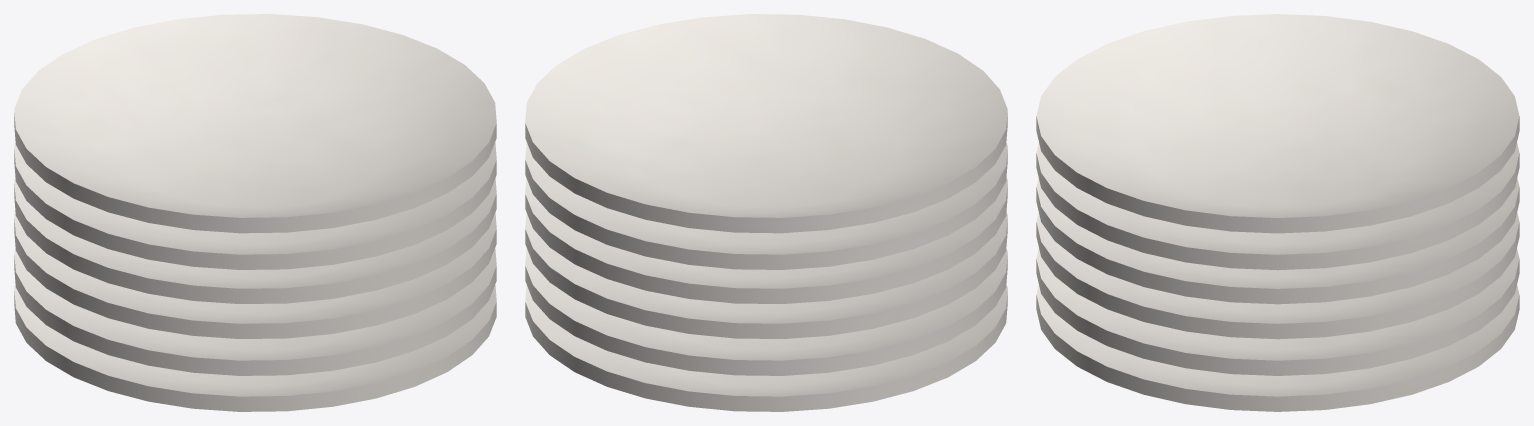
Rendered from Tumpukanpiring.fbx.
3 renders of one model, left to right at view 1: azimuth 30°, elevation 25°; view 2: azimuth 150°, elevation 25°; view 3: azimuth 270°, elevation 25°, orthographic.
Visible parts, largest first — view 1: Tumpukan piringg; view 2: Tumpukan piringg; view 3: Tumpukan piringg.
Boxes of the visible parts, x1,y1,x2,y2 form: Tumpukan piringg: (14,14,496,411); Tumpukan piringg: (525,14,1007,411); Tumpukan piringg: (1036,14,1519,411).
Size of the model in its own units: 60.57 by 30.92 by 60.57.
